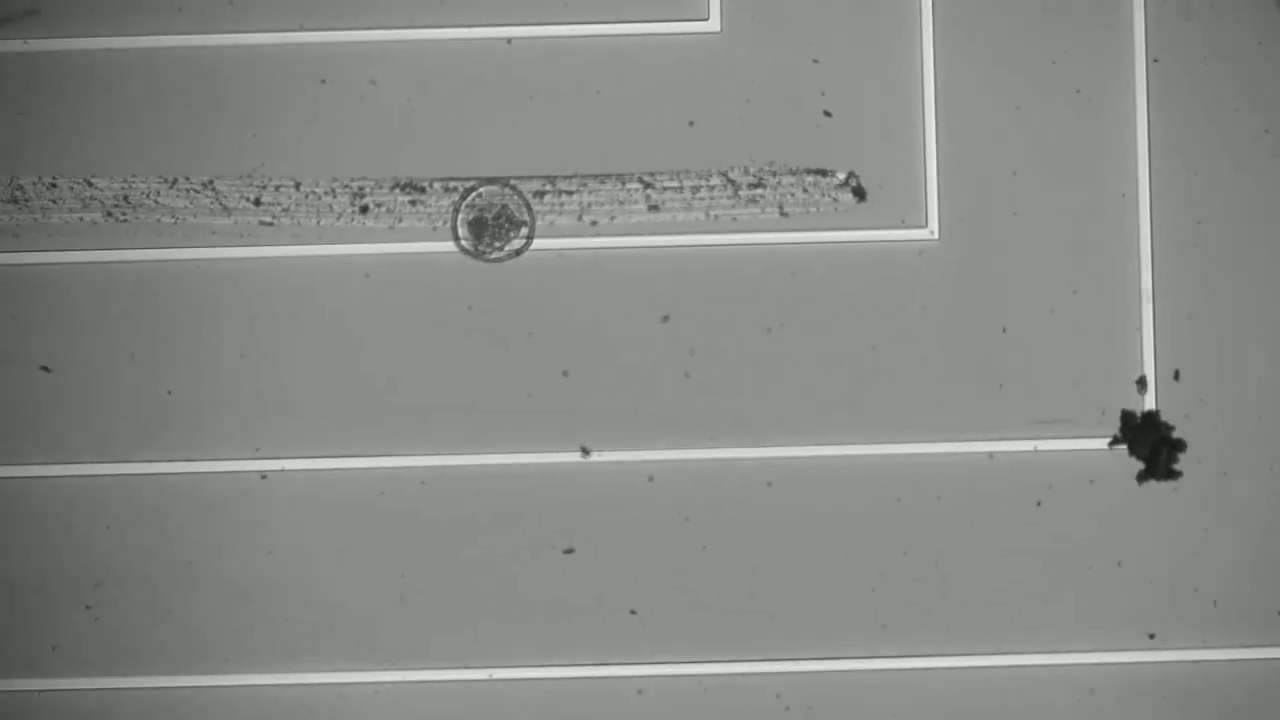stains_enbedded: (1095, 382, 1213, 499)
